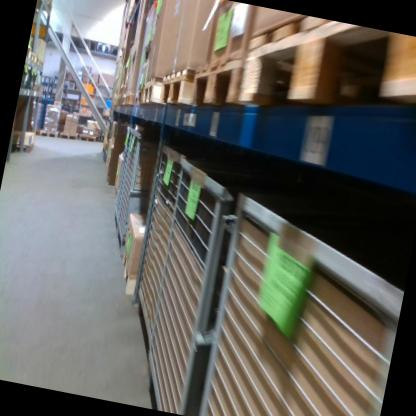pallet: (239, 8, 416, 137), (189, 46, 248, 117), (157, 62, 197, 114), (115, 248, 141, 296), (141, 73, 164, 109), (142, 39, 153, 65), (123, 89, 136, 109), (77, 132, 97, 145), (58, 129, 78, 142), (39, 126, 58, 139), (135, 84, 144, 109), (26, 48, 38, 64), (119, 93, 127, 108), (132, 92, 139, 108), (42, 0, 54, 9), (122, 83, 129, 93), (35, 60, 43, 67)
stillage: (193, 188, 416, 416), (133, 151, 246, 416), (120, 135, 190, 355), (106, 126, 168, 264), (104, 120, 137, 232)
